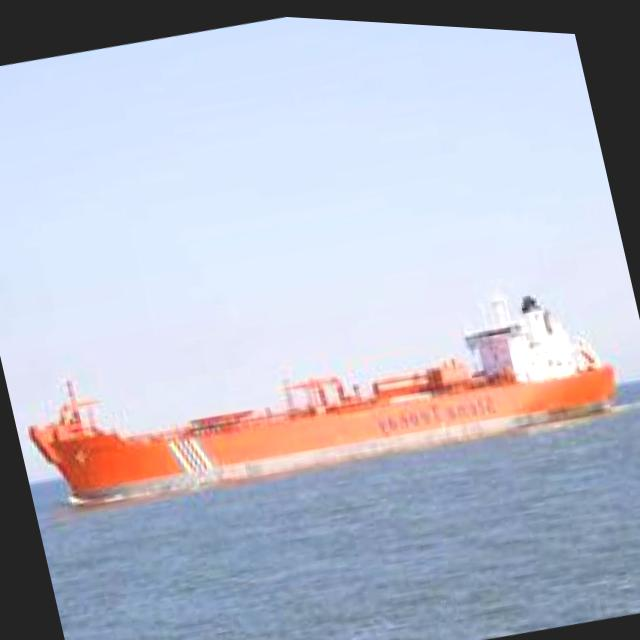ship2: (28, 288, 619, 510)
